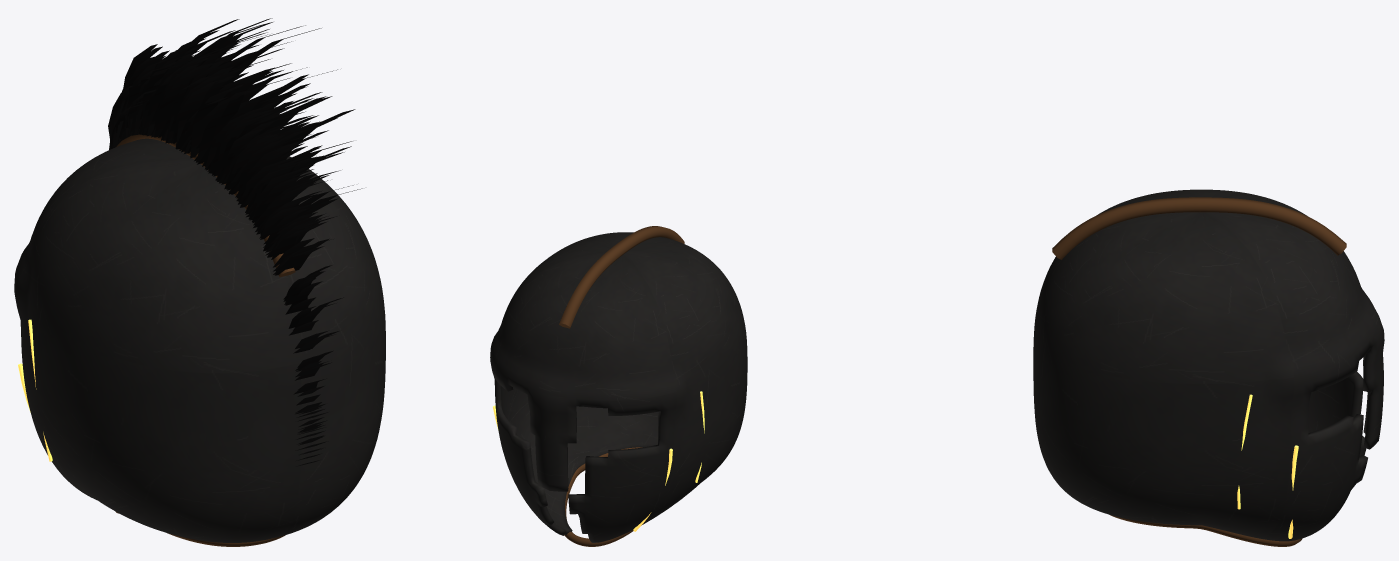
File: casco_corintio.glb
3 renders of one model, left to right at view 1: azimuth 30°, elevation 25°; view 2: azimuth 150°, elevation 25°; view 3: azimuth 270°, elevation 25°, orthographic. The views are drawn at different scales.
Visible parts, largest first — view 1: Casco_corintio; view 2: Casco_corintio; view 3: Casco_corintio.
Part boxes in pixels (box(x1,y1,x2,y2)): Casco_corintio: box(14, 18, 385, 546); Casco_corintio: box(490, 226, 747, 546); Casco_corintio: box(1033, 189, 1384, 546).
Bounding box in the file's own units: 0.244 × 0.4694 × 0.4671.
Materials: 4 (3 with a texture image).
